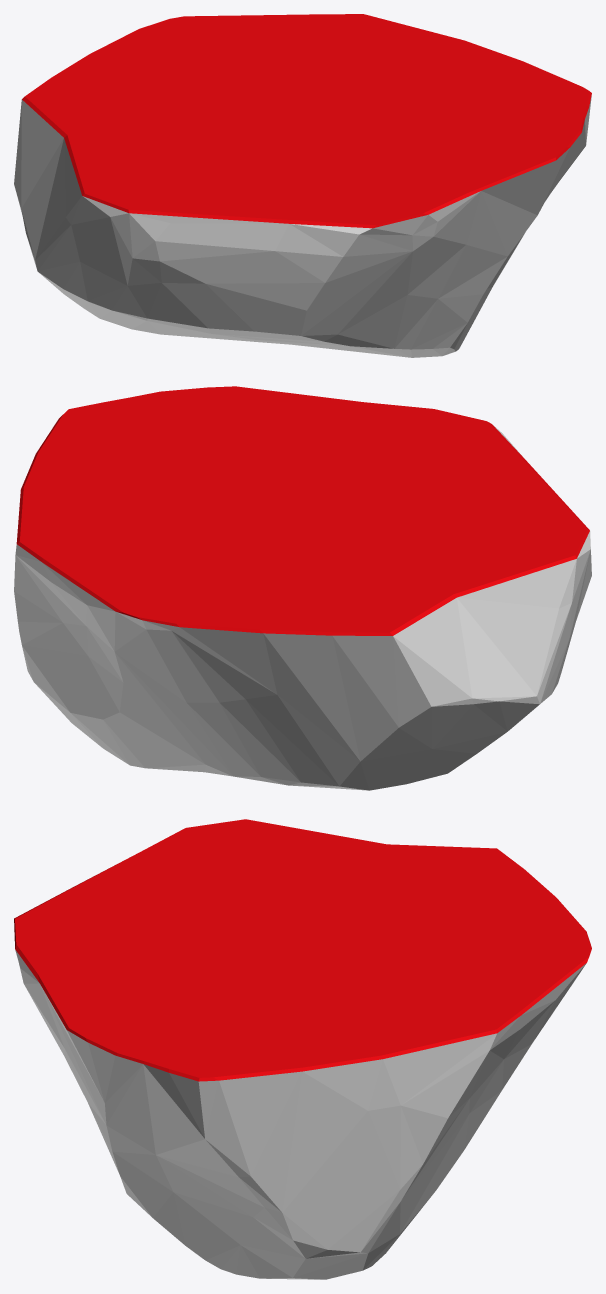
The model's file is floating_island_1.fbx.
The picture shows the model from 3 angles, top to bottom: view 1: azimuth 30°, elevation 25°; view 2: azimuth 150°, elevation 25°; view 3: azimuth 270°, elevation 25°; orthographic projection. The views are drawn at different scales.
Visible parts, largest first — view 1: Cube.001; view 2: Cube.001; view 3: Cube.001.
Boxes of the visible parts, left/top/right/bottom form: Cube.001: left=14, top=14, right=591, bottom=357; Cube.001: left=14, top=386, right=591, bottom=790; Cube.001: left=14, top=819, right=591, bottom=1279.
Bounding box in the file's own units: 19459 × 9057 × 18020.
